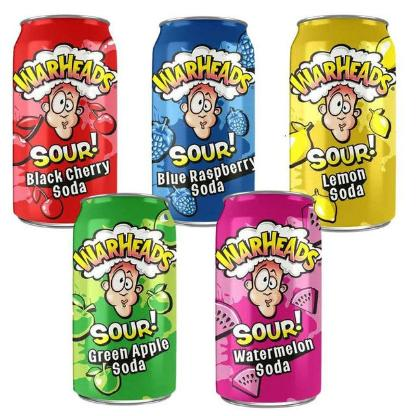Tin_Can: (51, 190, 191, 410), (284, 11, 402, 250), (141, 15, 266, 225), (9, 6, 120, 234), (207, 185, 315, 399)
